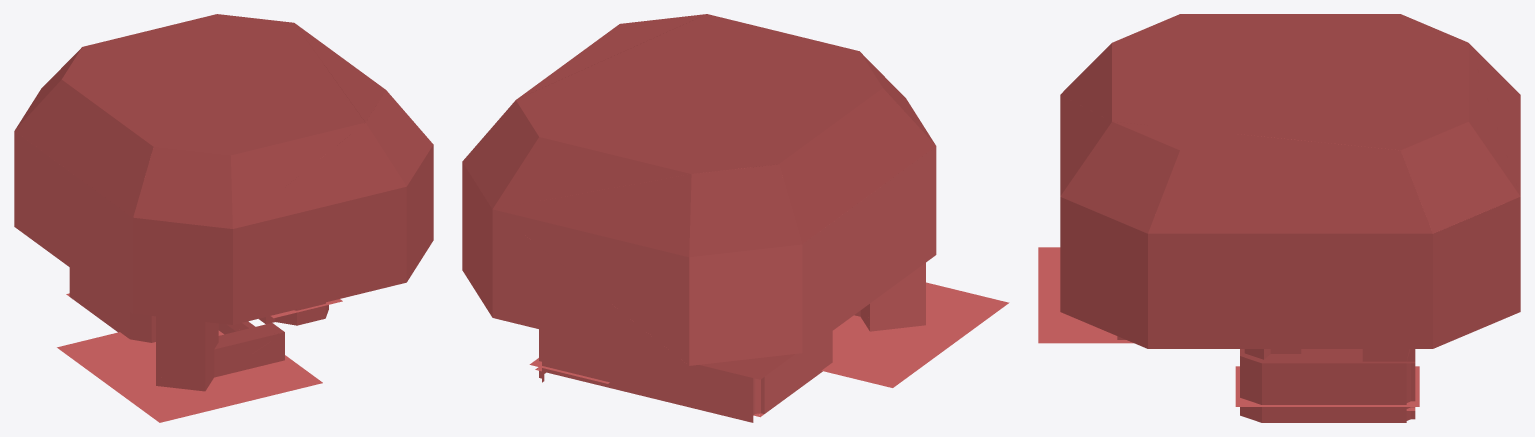
The model's file is teresa_house.glb.
3 views of the same model, side by side, from view 1: azimuth 30°, elevation 25°; view 2: azimuth 150°, elevation 25°; view 3: azimuth 270°, elevation 25° (orthographic). The views are drawn at different scales.
Visible parts, largest first — view 1: teresa_house_col; view 2: teresa_house_col; view 3: teresa_house_col.
Boxes of the visible parts, left/top/right/bottom form: teresa_house_col: left=14, top=14, right=433, bottom=422; teresa_house_col: left=462, top=14, right=1009, bottom=422; teresa_house_col: left=1038, top=14, right=1520, bottom=422.
Size of the model in its own units: 10.1 by 7.2 by 11.
